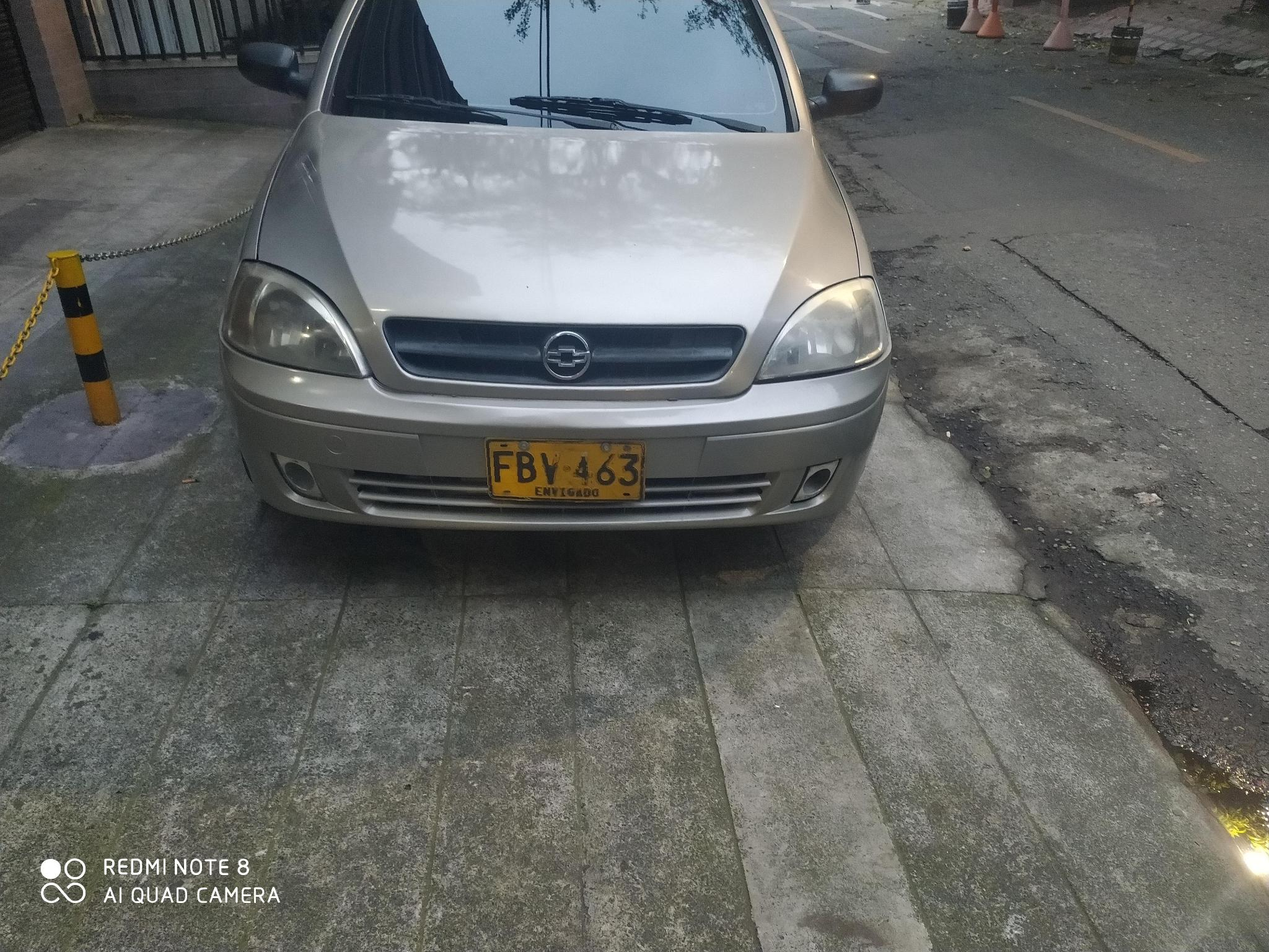placa: (477, 434, 649, 507)
